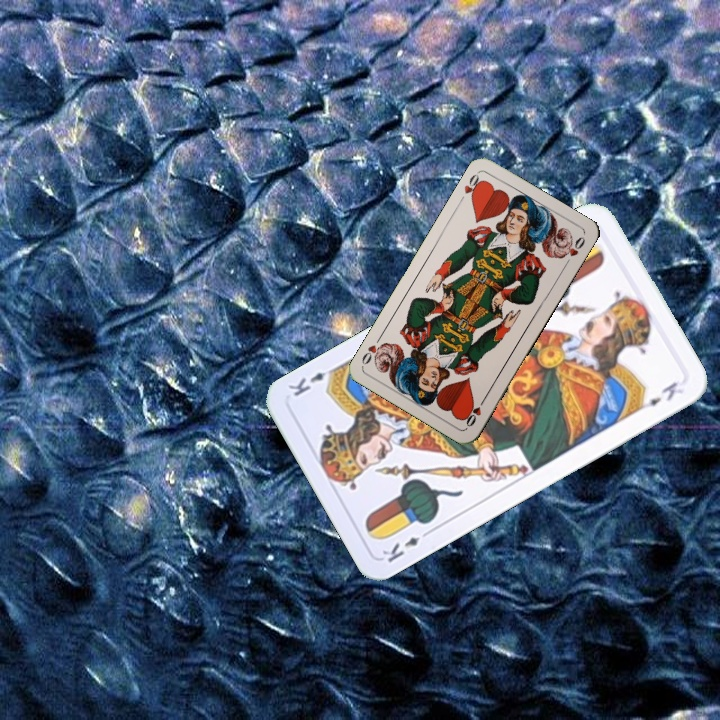EK: (378, 525, 434, 565)
HO: (461, 393, 488, 430), (460, 168, 486, 203)
